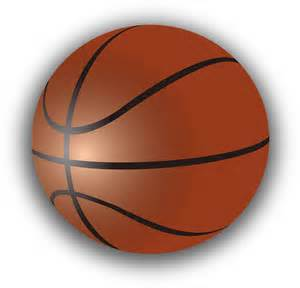basketball: (27, 21, 272, 257)
